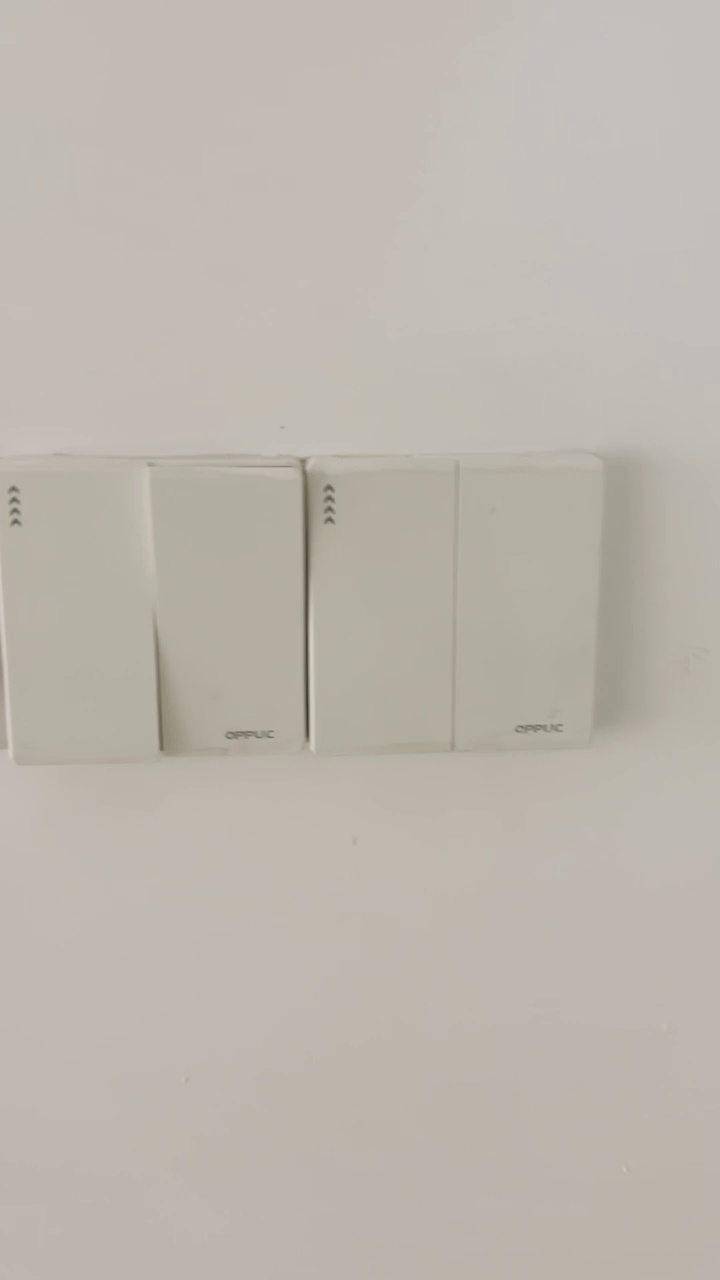button1: (151, 463, 305, 762), (0, 468, 145, 757), (459, 460, 598, 750), (313, 467, 450, 749)
